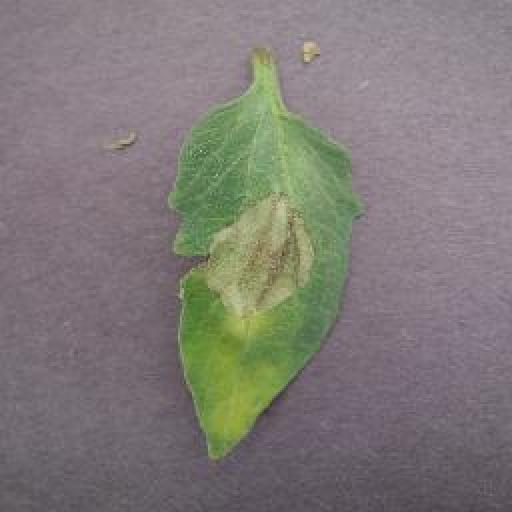disease_tomato: (166, 98, 370, 466)
